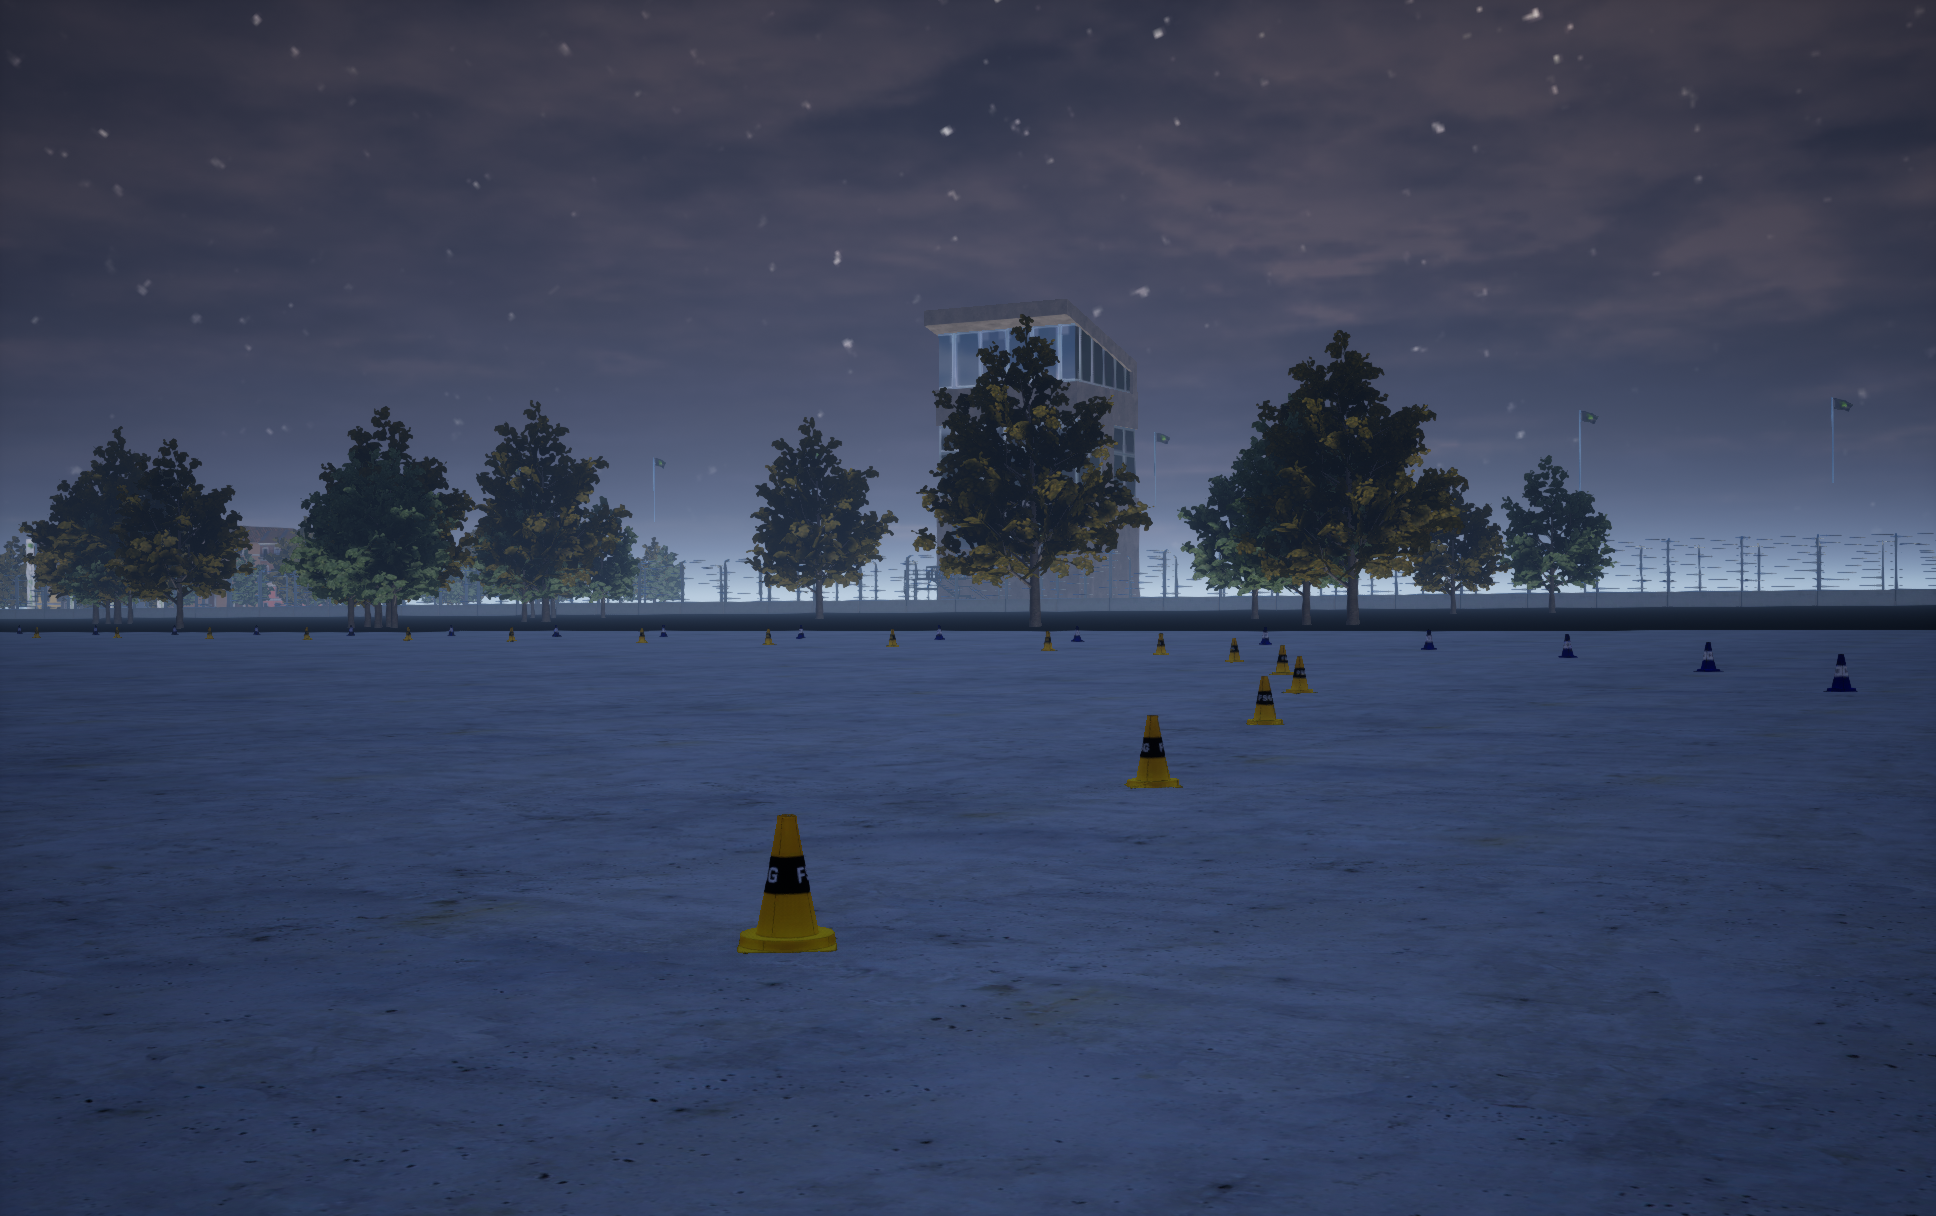blue: (737, 814, 836, 953), (1123, 714, 1182, 787), (1245, 677, 1285, 724), (1280, 656, 1317, 693), (1269, 644, 1293, 674), (1224, 637, 1243, 663), (1041, 630, 1058, 650), (1153, 633, 1168, 654)
yellow: (1823, 654, 1858, 691), (1694, 642, 1723, 671), (1558, 635, 1577, 657), (1420, 629, 1436, 649), (1259, 628, 1271, 644)
